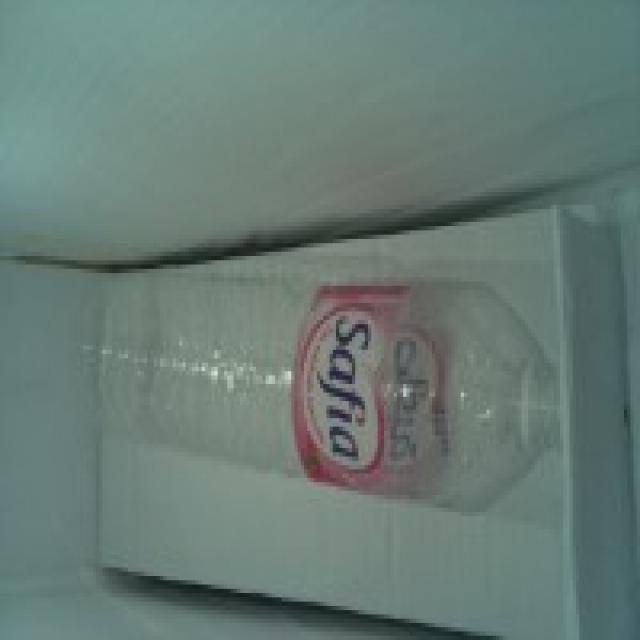Anorganik: (83, 260, 563, 512)
